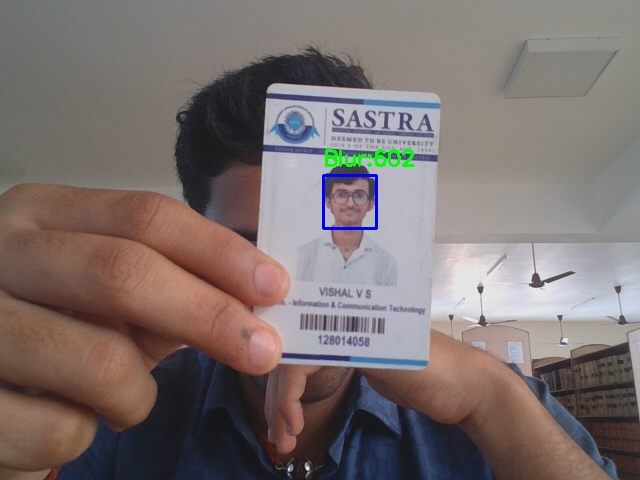fake: (323, 175, 376, 228)
